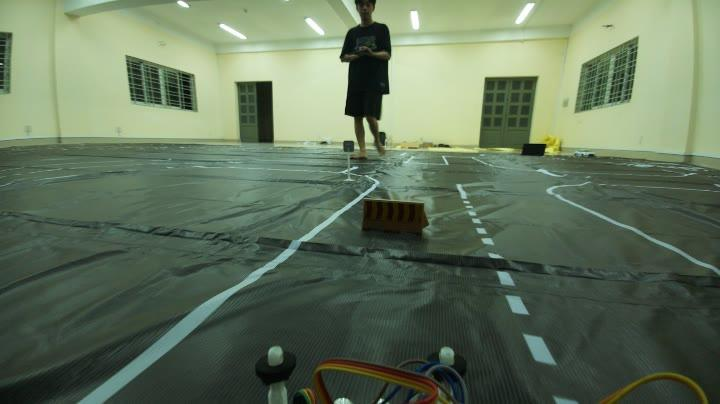roadblock: (359, 196, 434, 246)
